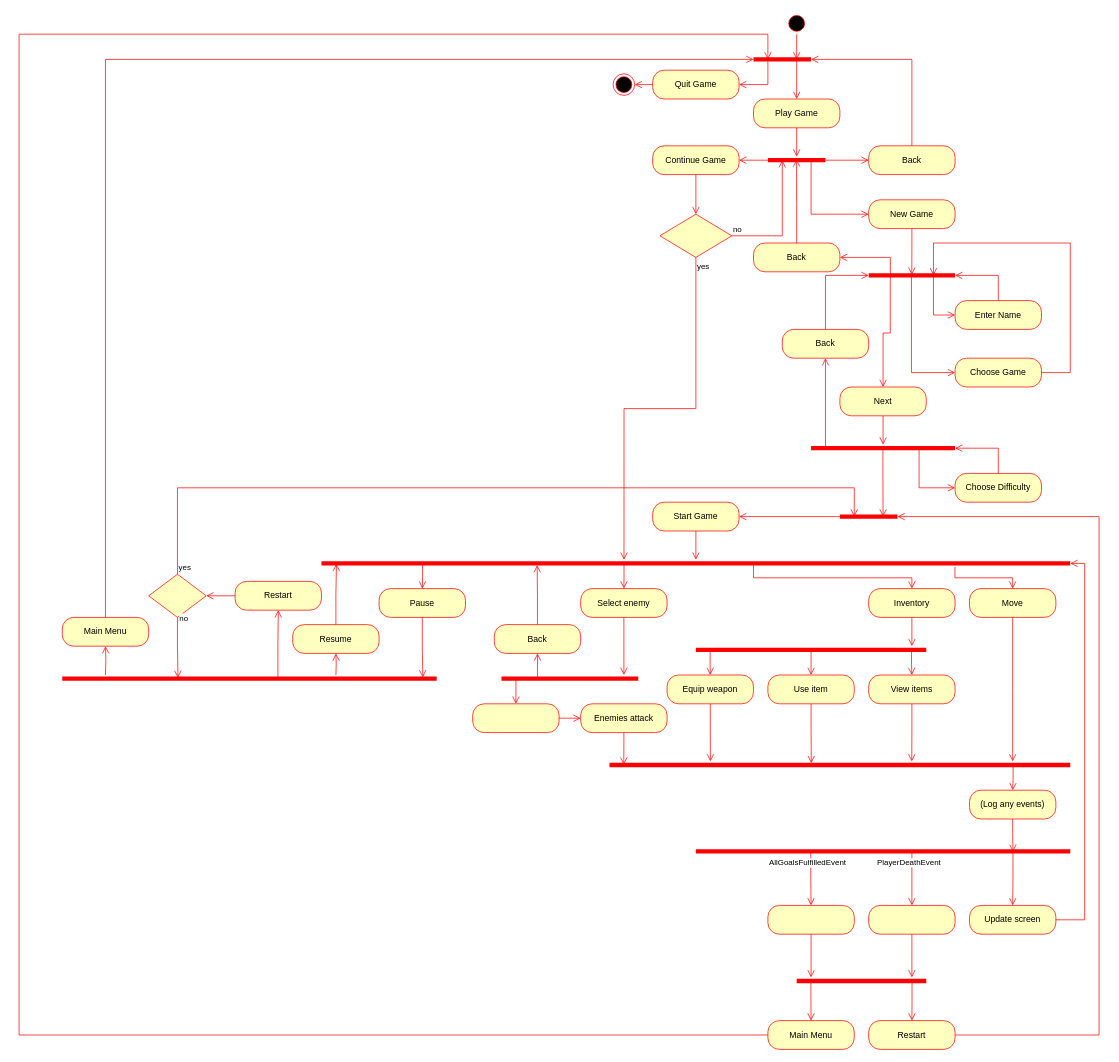
Some shapes in this 1119 by 1062 pixel diagram are drawn without their labels. Here are the shapes that lost their labels. From the top down, the box of each, then its label:
(659, 213, 732, 257): Game loaded?
(148, 573, 206, 617): Confirm restart?
(472, 703, 559, 733): Attack
(767, 905, 854, 934): Show victory screen
(868, 905, 955, 934): Show death screen
